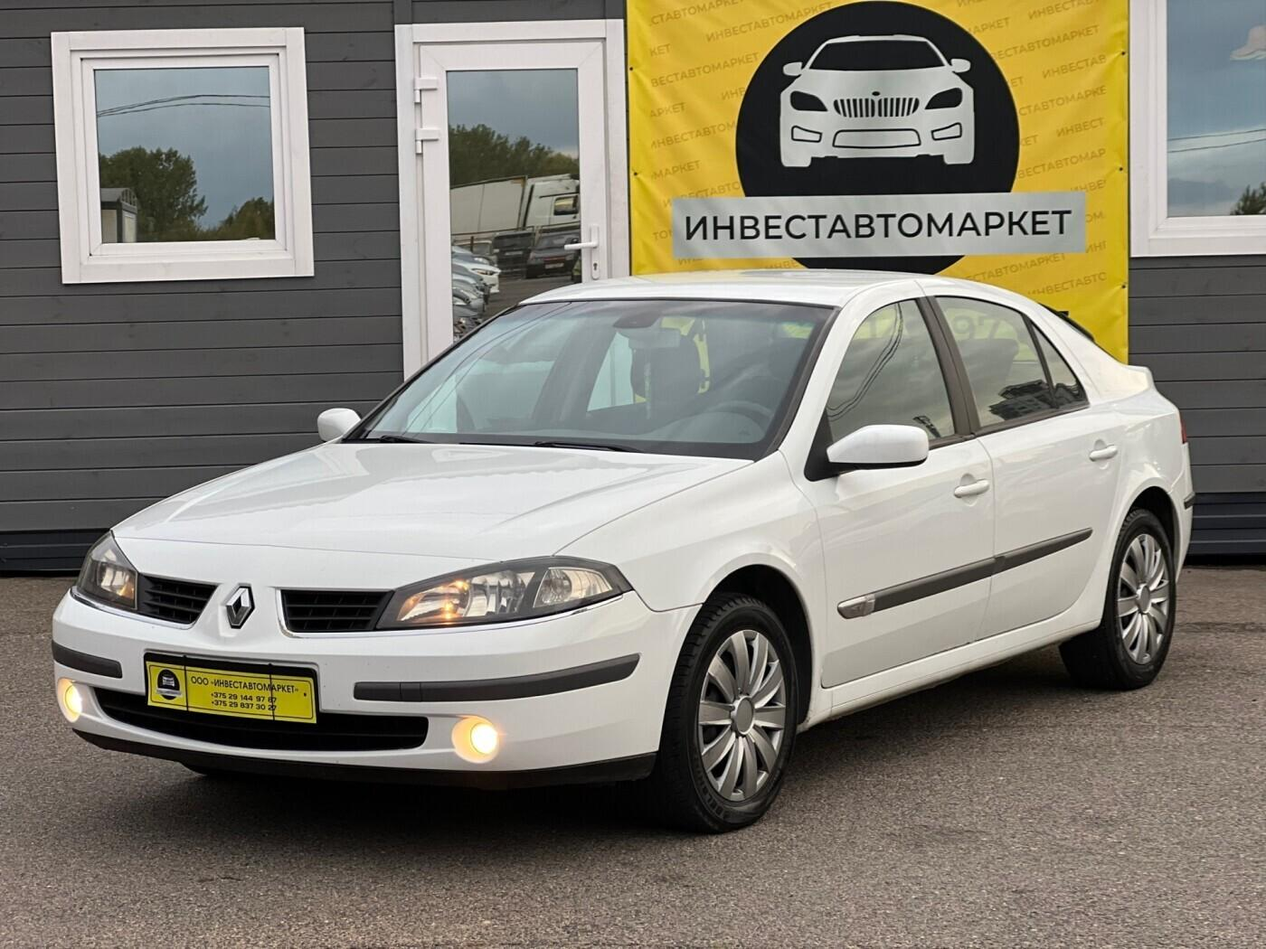Laguna_2005-2007: (45, 270, 1205, 828)
